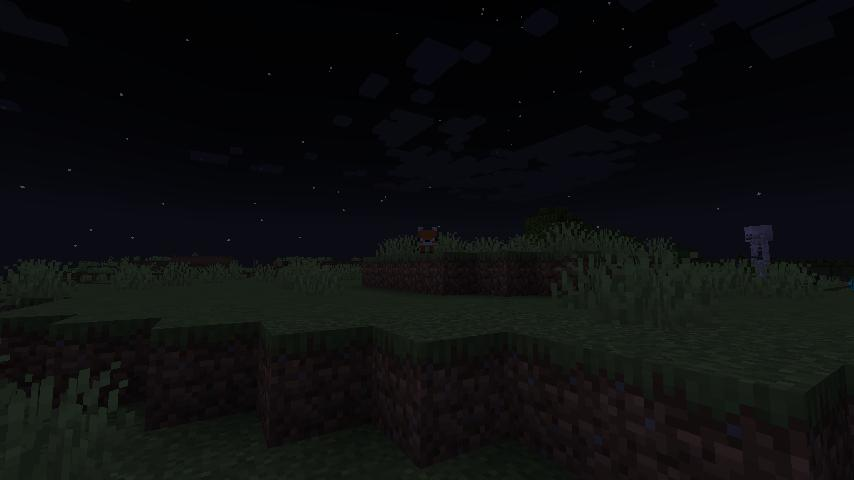fox: (415, 224, 439, 257)
skeleton: (742, 223, 779, 288)
